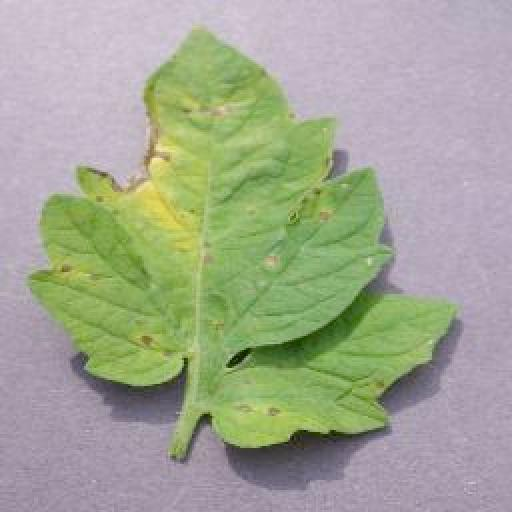disease_tomato: (31, 27, 456, 449)
